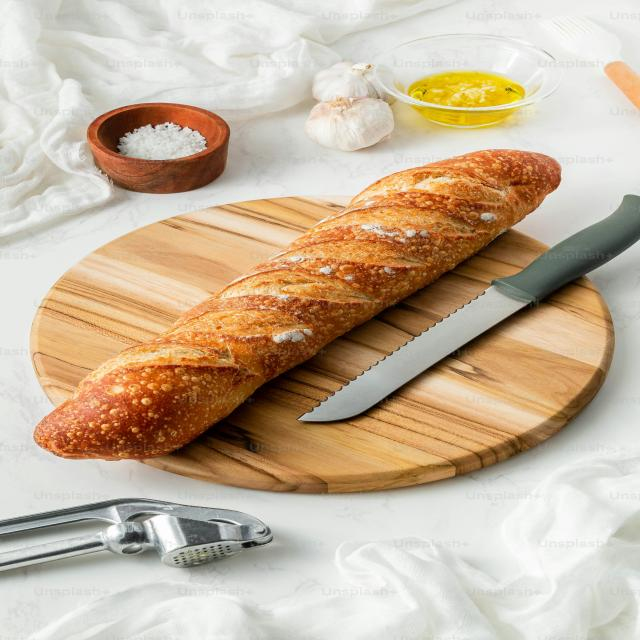Baguette: (35, 150, 560, 459)
